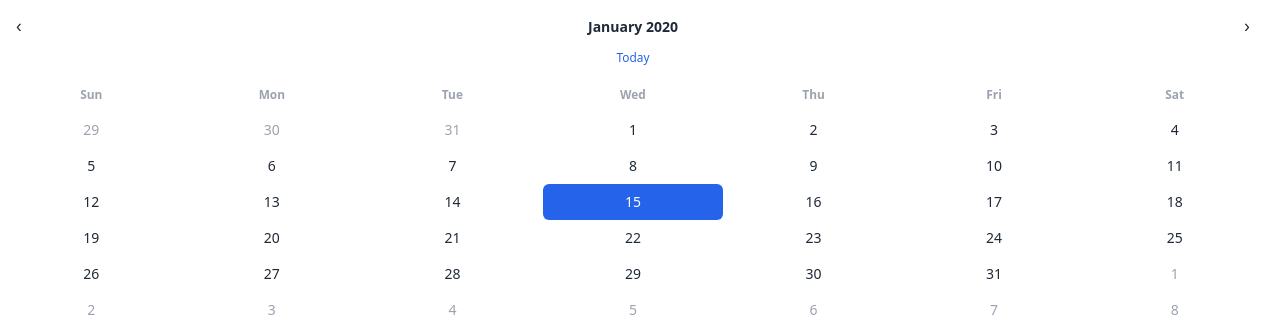
CalendarWidget Today button › navigates to the current month when clicked from a distant month
Expected: the button "January 2020" is shown, [580,16,686,38]
Click Today
What coordinates should you click on to do the following:
click the button with aria-label "Navigate to current month"
I would click on:
 (633, 57)
Its box is [608,47,658,68].
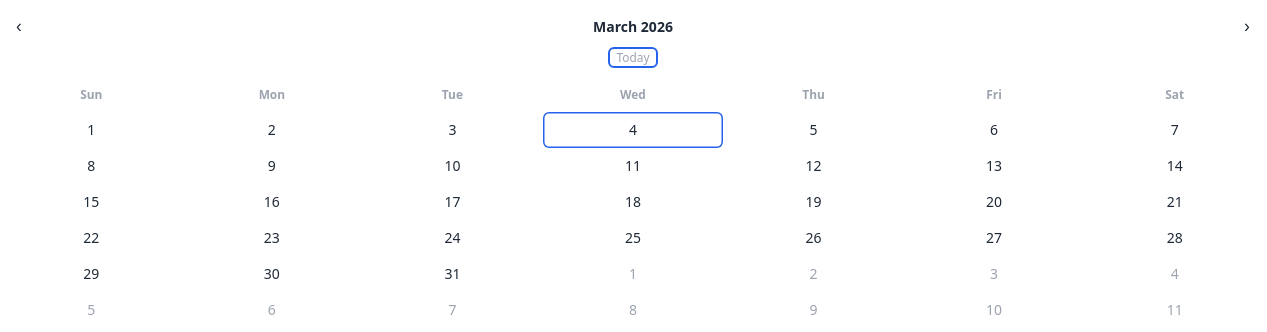
Result: the button "March 2026" is shown at [585,16,681,38]
